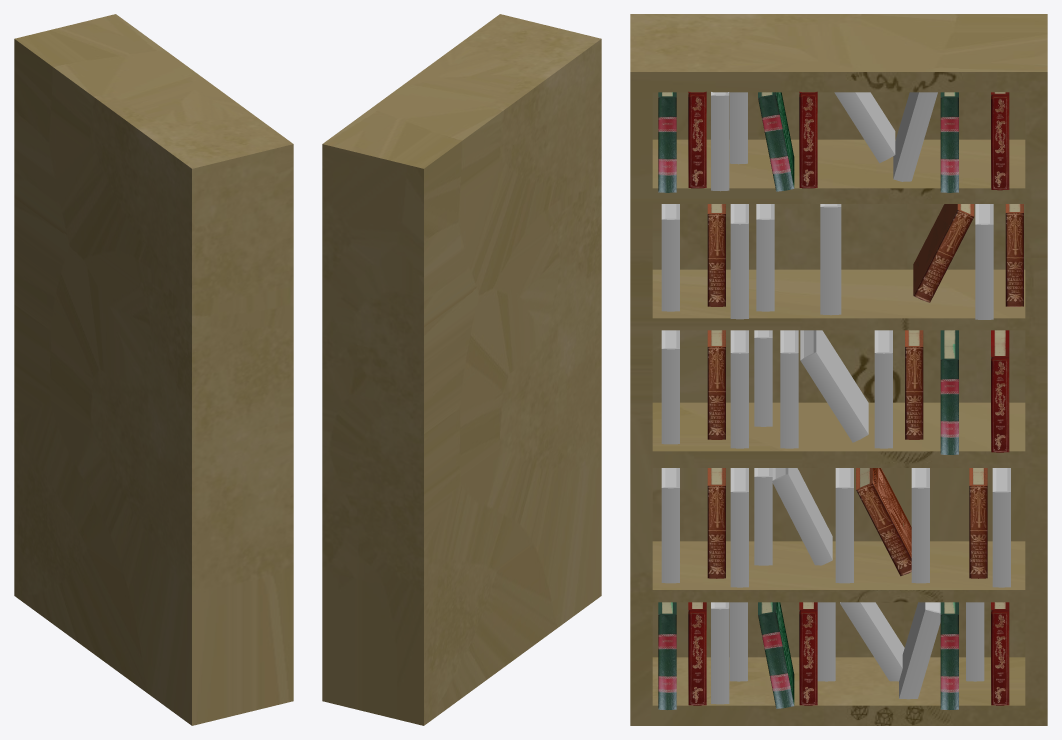
The model's file is bibliothèque+livres.fbx.
3 views of the same model, side by side, from view 1: azimuth 30°, elevation 25°; view 2: azimuth 150°, elevation 25°; view 3: azimuth 270°, elevation 25° (orthographic). The views are drawn at different scales.
Parts seen in each view (by area): view 1: Bibliothèque; view 2: Bibliothèque; view 3: Bibliothèque, Livres, Livrequete, Livre002, Livre003, Livre010, Livre009, Livre005, Livre007, livres001, Livre006, livres006 (+12 smaller).
Boxes of the visible parts, box(x1,y1,x2,y2) form: Bibliothèque: box(14, 14, 293, 725); Bibliothèque: box(322, 14, 601, 725); Bibliothèque: box(630, 14, 1047, 725); Livres: box(658, 91, 1023, 709); Livrequete: box(820, 204, 841, 315); Livre002: box(940, 330, 958, 454); Livre003: box(991, 330, 1009, 452); Livre010: box(992, 468, 1010, 587); Livre009: box(730, 468, 748, 587); Livre005: box(730, 330, 748, 448); Livre007: box(661, 468, 679, 583); livres001: box(730, 204, 748, 319); Livre006: box(661, 330, 679, 444); livres006: box(969, 468, 987, 578).
Size of the model in its own units: 9.2 by 44.98 by 26.
